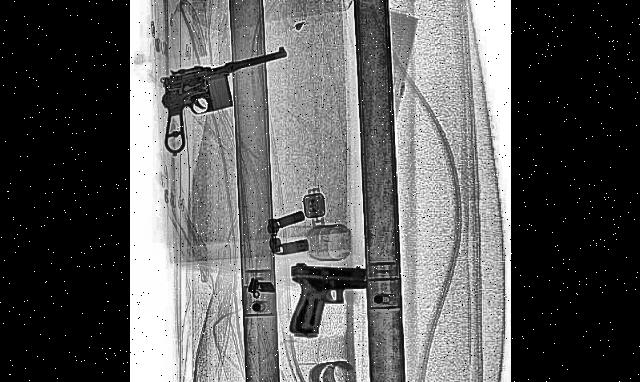Gun: (158, 42, 292, 156), (288, 260, 369, 344)
